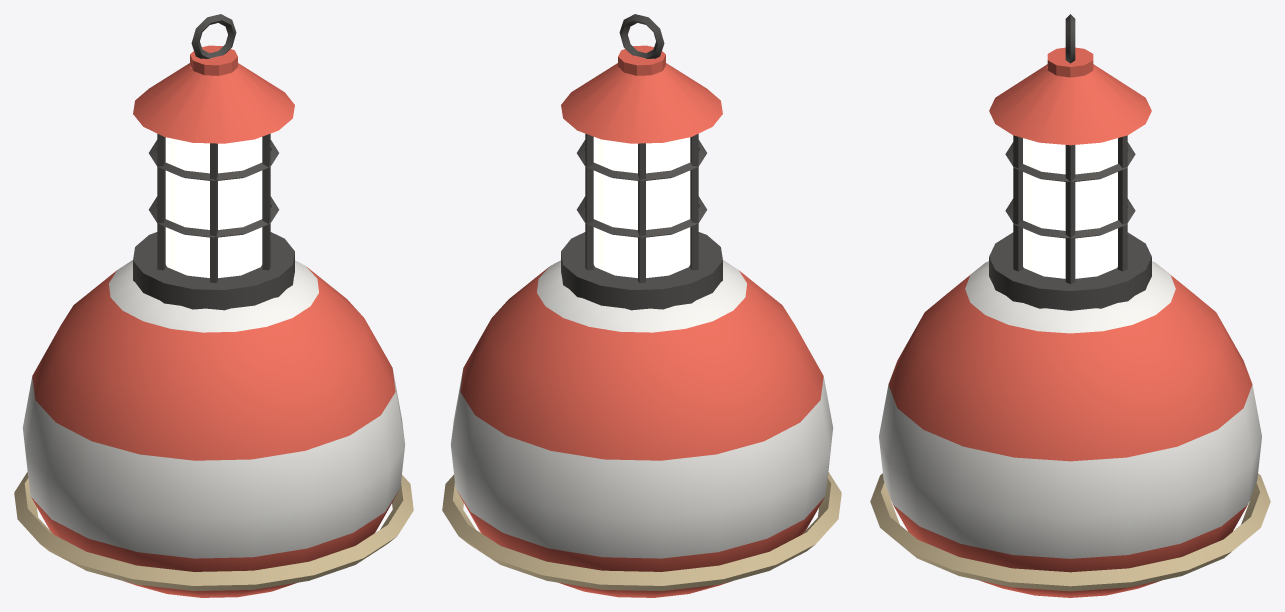
The model's file is furn_buoy_lamp.glb.
3 views of the same model, side by side, from view 1: azimuth 30°, elevation 25°; view 2: azimuth 150°, elevation 25°; view 3: azimuth 270°, elevation 25° (orthographic).
Parts seen in each view (by area): view 1: furn_buoy_lamp_body; view 2: furn_buoy_lamp_body; view 3: furn_buoy_lamp_body.
Part boxes in pixels (bbox=[...]): furn_buoy_lamp_body: bbox=[14, 14, 413, 597]; furn_buoy_lamp_body: bbox=[442, 14, 841, 597]; furn_buoy_lamp_body: bbox=[870, 14, 1270, 597].
Bounding box in the file's own units: 0.418 × 0.6127 × 0.418.
